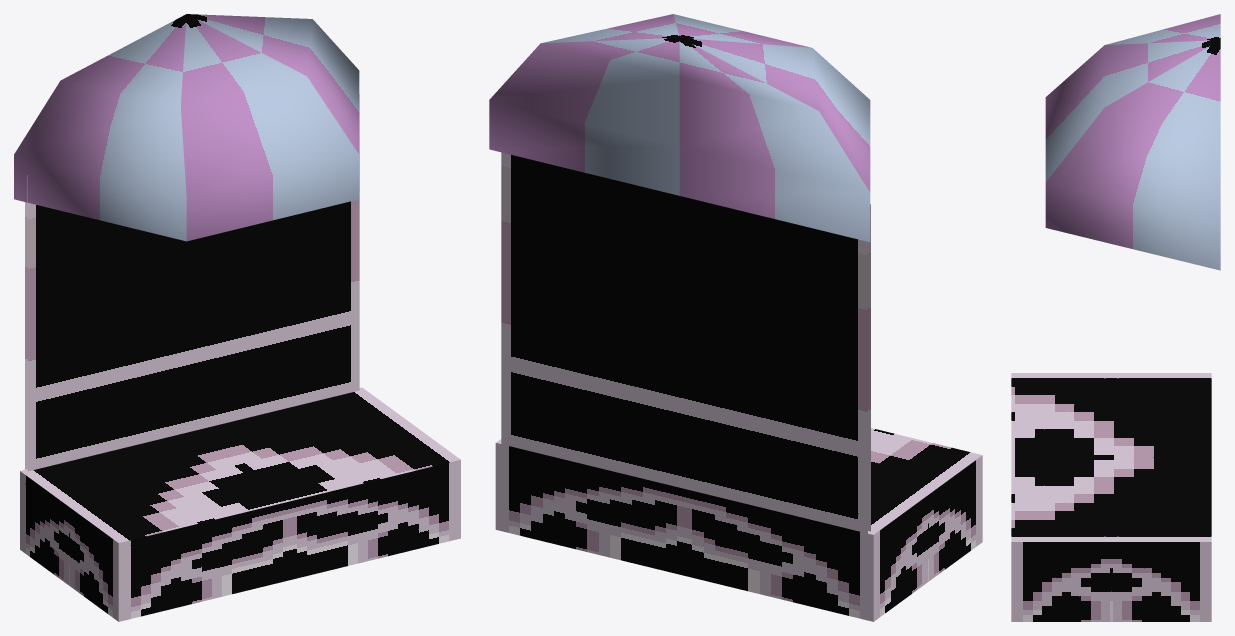
3 views of the same model, side by side, from view 1: azimuth 30°, elevation 25°; view 2: azimuth 150°, elevation 25°; view 3: azimuth 270°, elevation 25° (orthographic). The views are drawn at different scales.
Parts seen in each view (by area): view 1: 3635kg_case_02; view 2: 3635kg_case_02; view 3: 3635kg_case_02.
Boxes of the visible parts, x1,y1,x2,y2 form: 3635kg_case_02: (14, 14, 460, 621); 3635kg_case_02: (489, 14, 982, 621); 3635kg_case_02: (1011, 14, 1220, 621).
Size of the model in its own units: 2.02 by 2.74 by 1.04.
3 materials, 3 textured.
